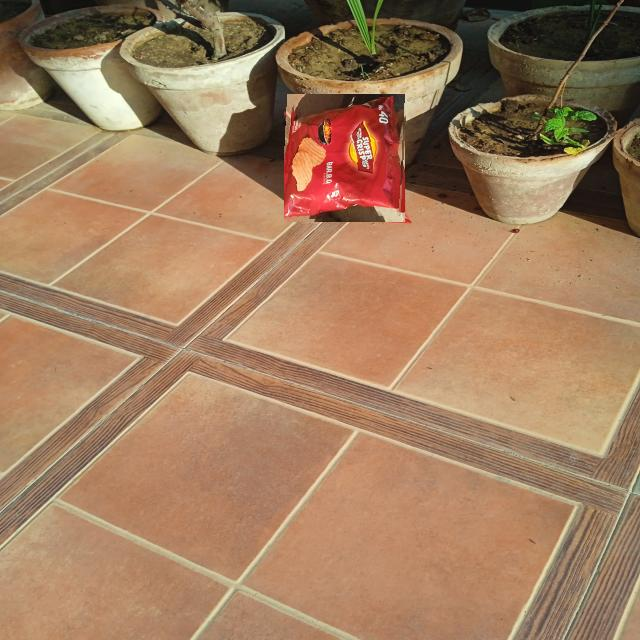Plastic: (284, 97, 407, 220)
